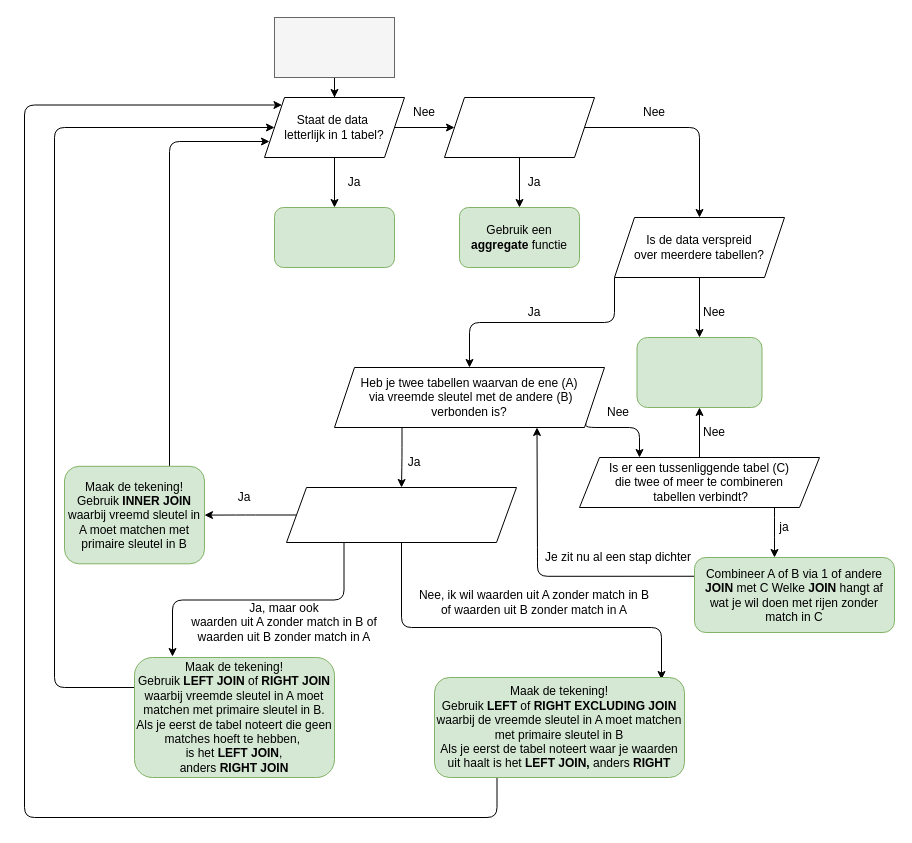
The diagram is 912 pixels wide and 843 high, and some of its shapes have lost their labels. Here are the shapes that lost their labels. From the top down, the box of each, then its label:
(274, 16, 394, 78): We moeten data tonen
(444, 96, 594, 158): Is de data afleidbaar uit 1 tabel?
(274, 206, 394, 268): Gebruik een gewone SELECT van de gewenste kolommen.
(636, 336, 762, 408): Contacteer de lector en zeg hoe je deze flowchart hebt afgelezen
(286, 486, 516, 542): Wil je waarden uit A in combinatie met waarden uit B?
